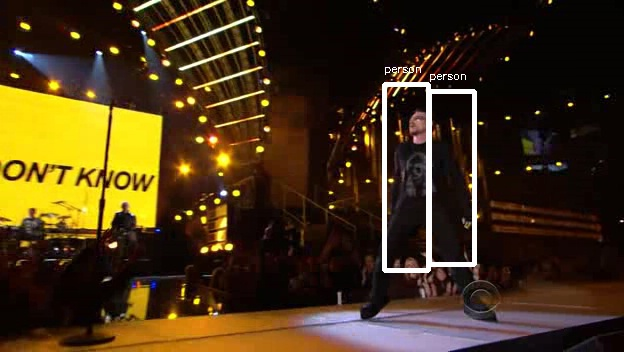person: (388, 109, 456, 233), (385, 109, 453, 233), (391, 109, 459, 233), (388, 106, 456, 230), (388, 112, 456, 236)
target_negative: (154, 281, 578, 327), (219, 141, 560, 166), (459, 67, 488, 167), (498, 270, 547, 291), (604, 262, 605, 314)
